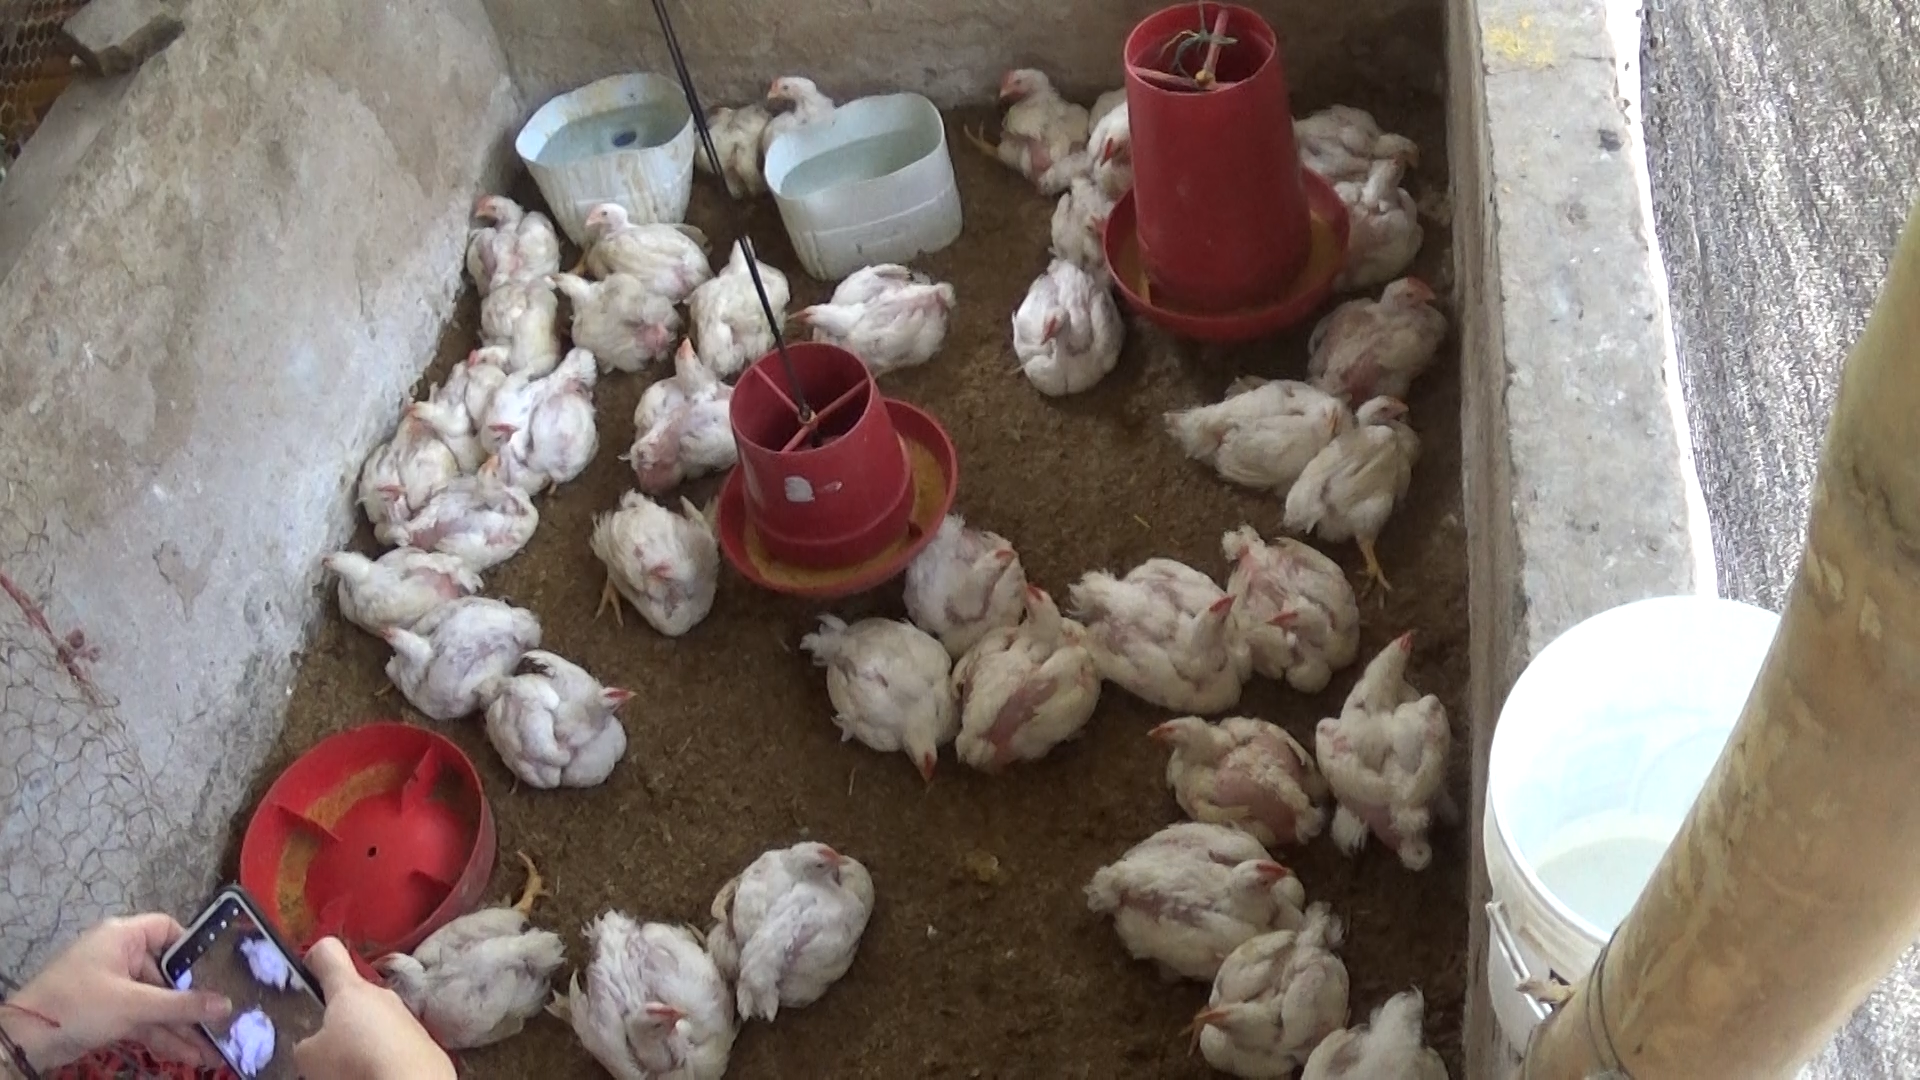Pollos: (1077, 812, 1323, 986), (1302, 632, 1462, 876), (546, 893, 754, 1080), (705, 828, 897, 1021), (1171, 899, 1360, 1069), (1133, 705, 1341, 851), (1060, 549, 1237, 713), (1276, 388, 1422, 588), (938, 585, 1087, 775), (365, 911, 576, 1044), (802, 607, 953, 785), (465, 646, 640, 796), (1205, 524, 1357, 694), (363, 593, 545, 728), (1162, 367, 1338, 504), (785, 252, 960, 388), (1298, 277, 1451, 422), (585, 497, 731, 649), (895, 512, 1029, 658), (311, 535, 473, 653), (1004, 251, 1121, 406), (618, 347, 760, 473), (480, 348, 604, 491), (400, 313, 535, 439), (960, 46, 1095, 173), (373, 471, 541, 571), (1313, 153, 1447, 277), (353, 386, 451, 531), (1284, 94, 1427, 193), (686, 229, 789, 363), (533, 266, 682, 357), (575, 198, 713, 290), (460, 191, 572, 290), (1054, 160, 1135, 266), (1071, 78, 1156, 166), (752, 73, 845, 141)
